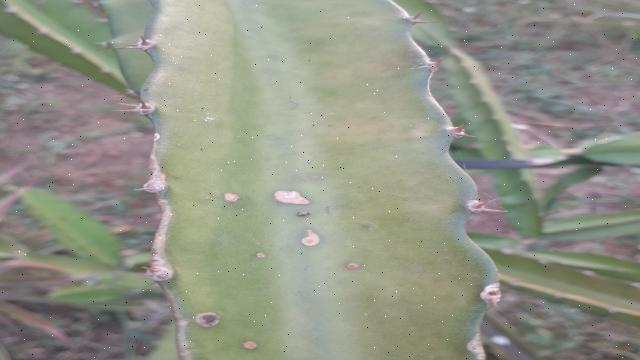stemcanker: (273, 184, 313, 208), (194, 308, 224, 333), (298, 229, 325, 249), (238, 335, 264, 354), (219, 188, 245, 206), (342, 257, 366, 272), (254, 248, 271, 262)
